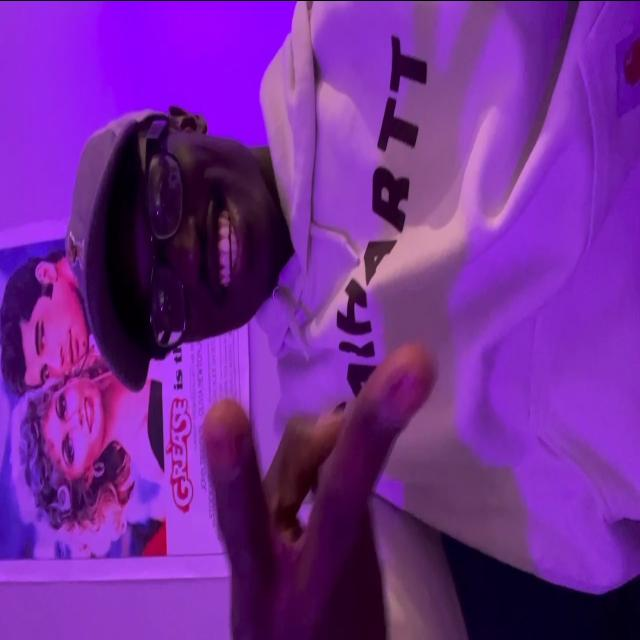Scissors: (199, 341, 440, 640)
